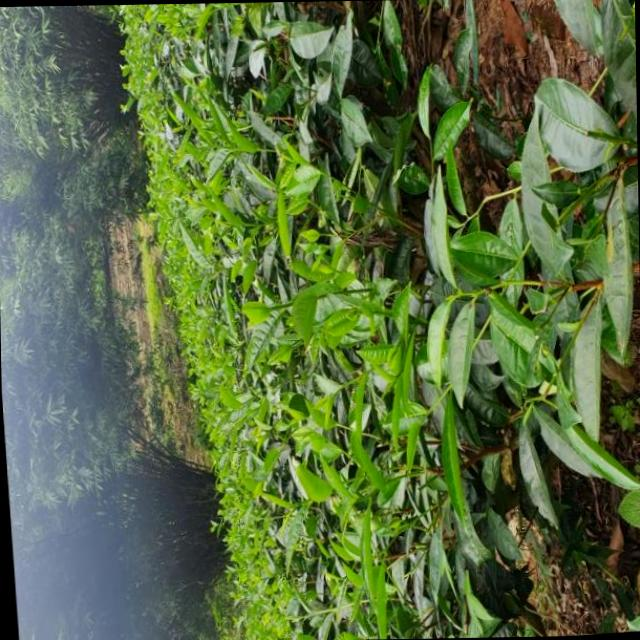Stem: (470, 291, 476, 295), (283, 303, 288, 307)
